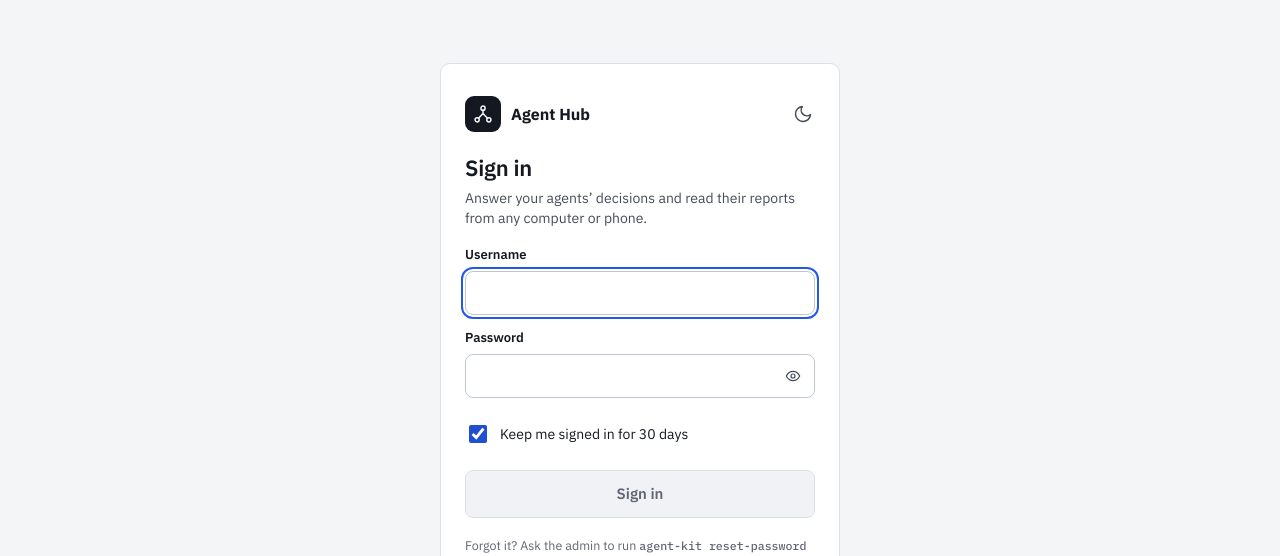
Sign in › signs in, lands on the page it was opened at, and signs out
Type "owner" into the field labelled "Username" at (640,293), box [465, 271, 815, 315]
Type "agenthub" into the password field labelled "Password" at (640,376), box [465, 354, 815, 398]
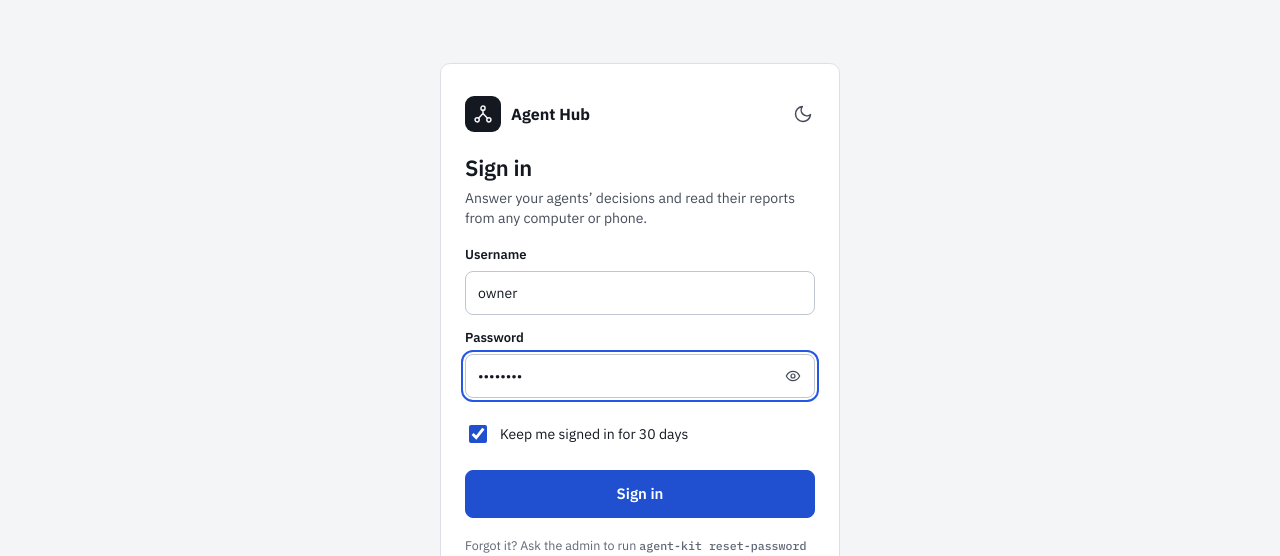
Click the button "Sign in" at (640,494), box [465, 470, 815, 518]
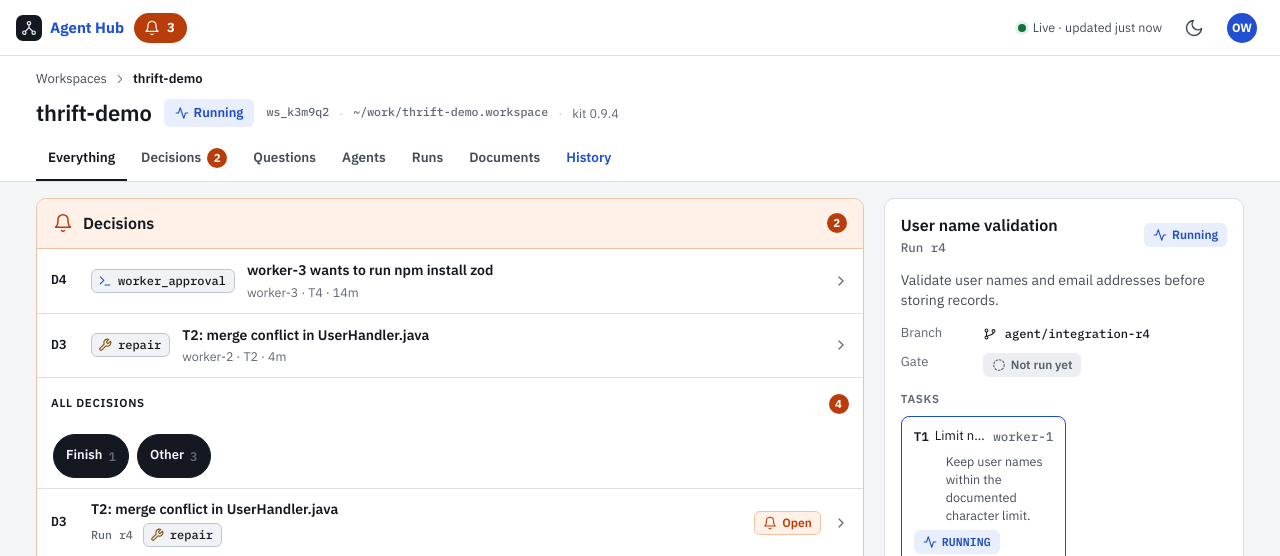
expect the heading "thrift-demo" is shown: met, box [36, 99, 152, 127]
Click the button with aria-label "account: owner" at (1242,28), box [1220, 6, 1264, 50]
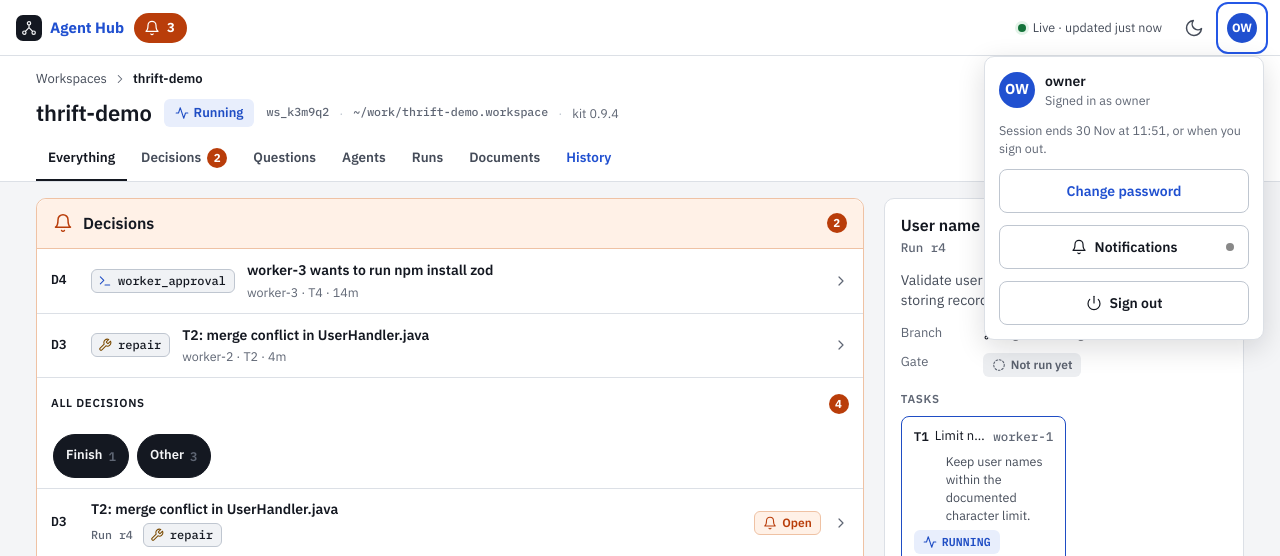
Click the menu item "Change password" at (1124,191), box [999, 169, 1249, 213]
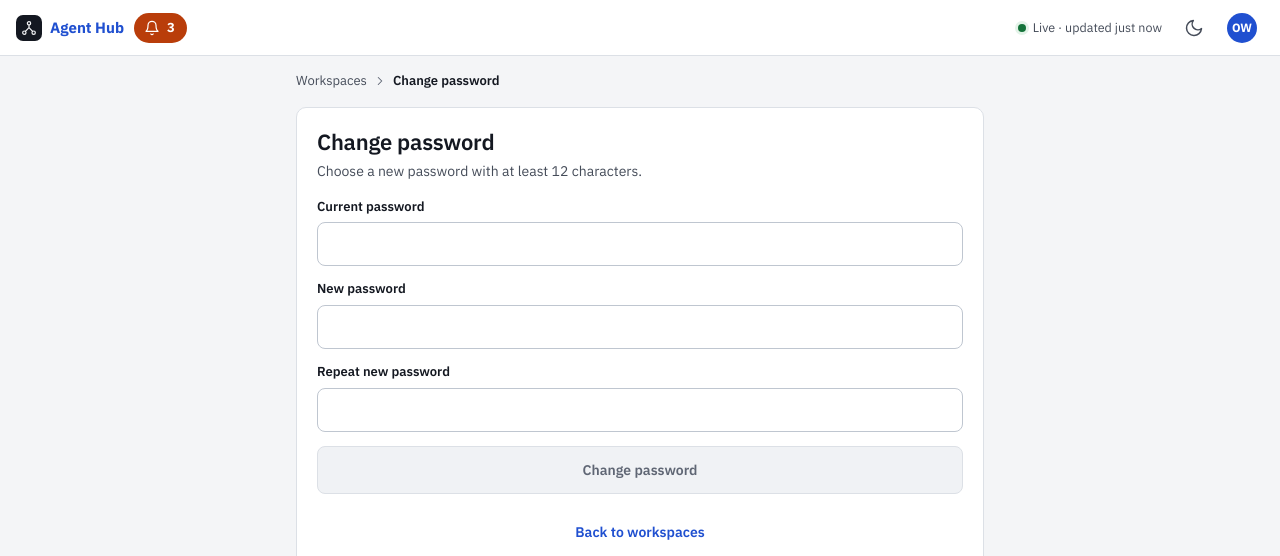
expect the heading "Change password" is shown: met, box [317, 127, 494, 156]
Click the button with aria-label "account: owner" at (1242,28), box [1220, 6, 1264, 50]
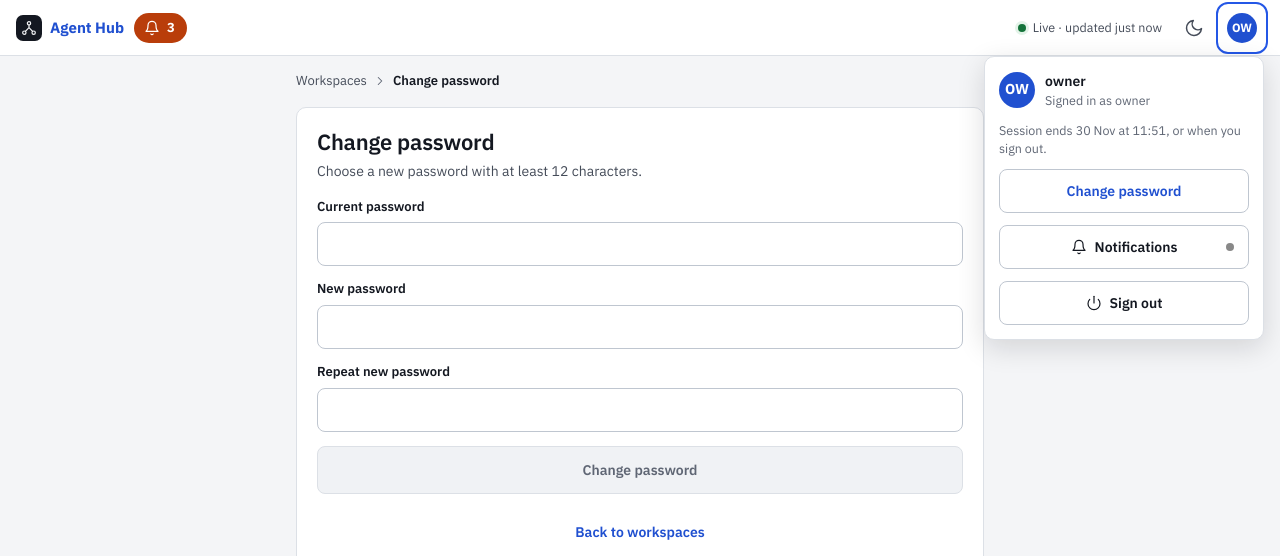
Click the menu item "Sign out" at (1124,303), box [999, 281, 1249, 325]
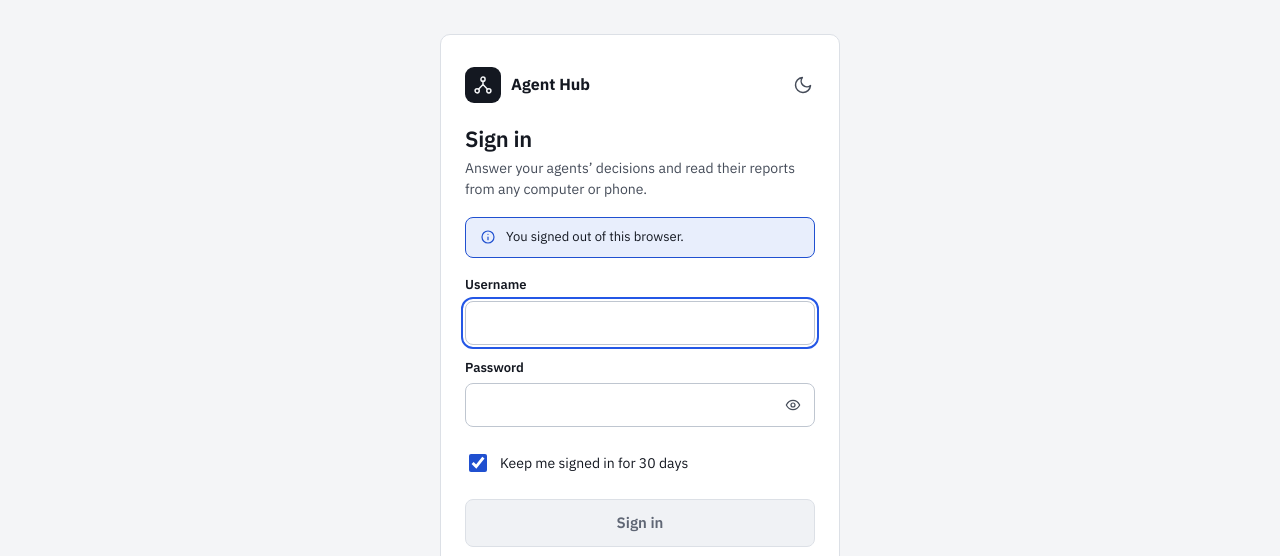
expect the text "You signed out of this browser." is shown: met, box [506, 228, 684, 245]
